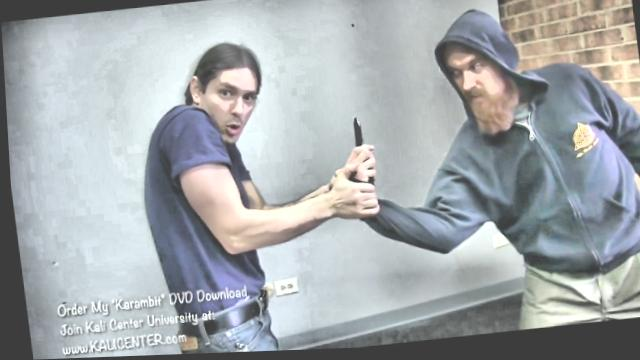knife: (340, 115, 379, 180)
